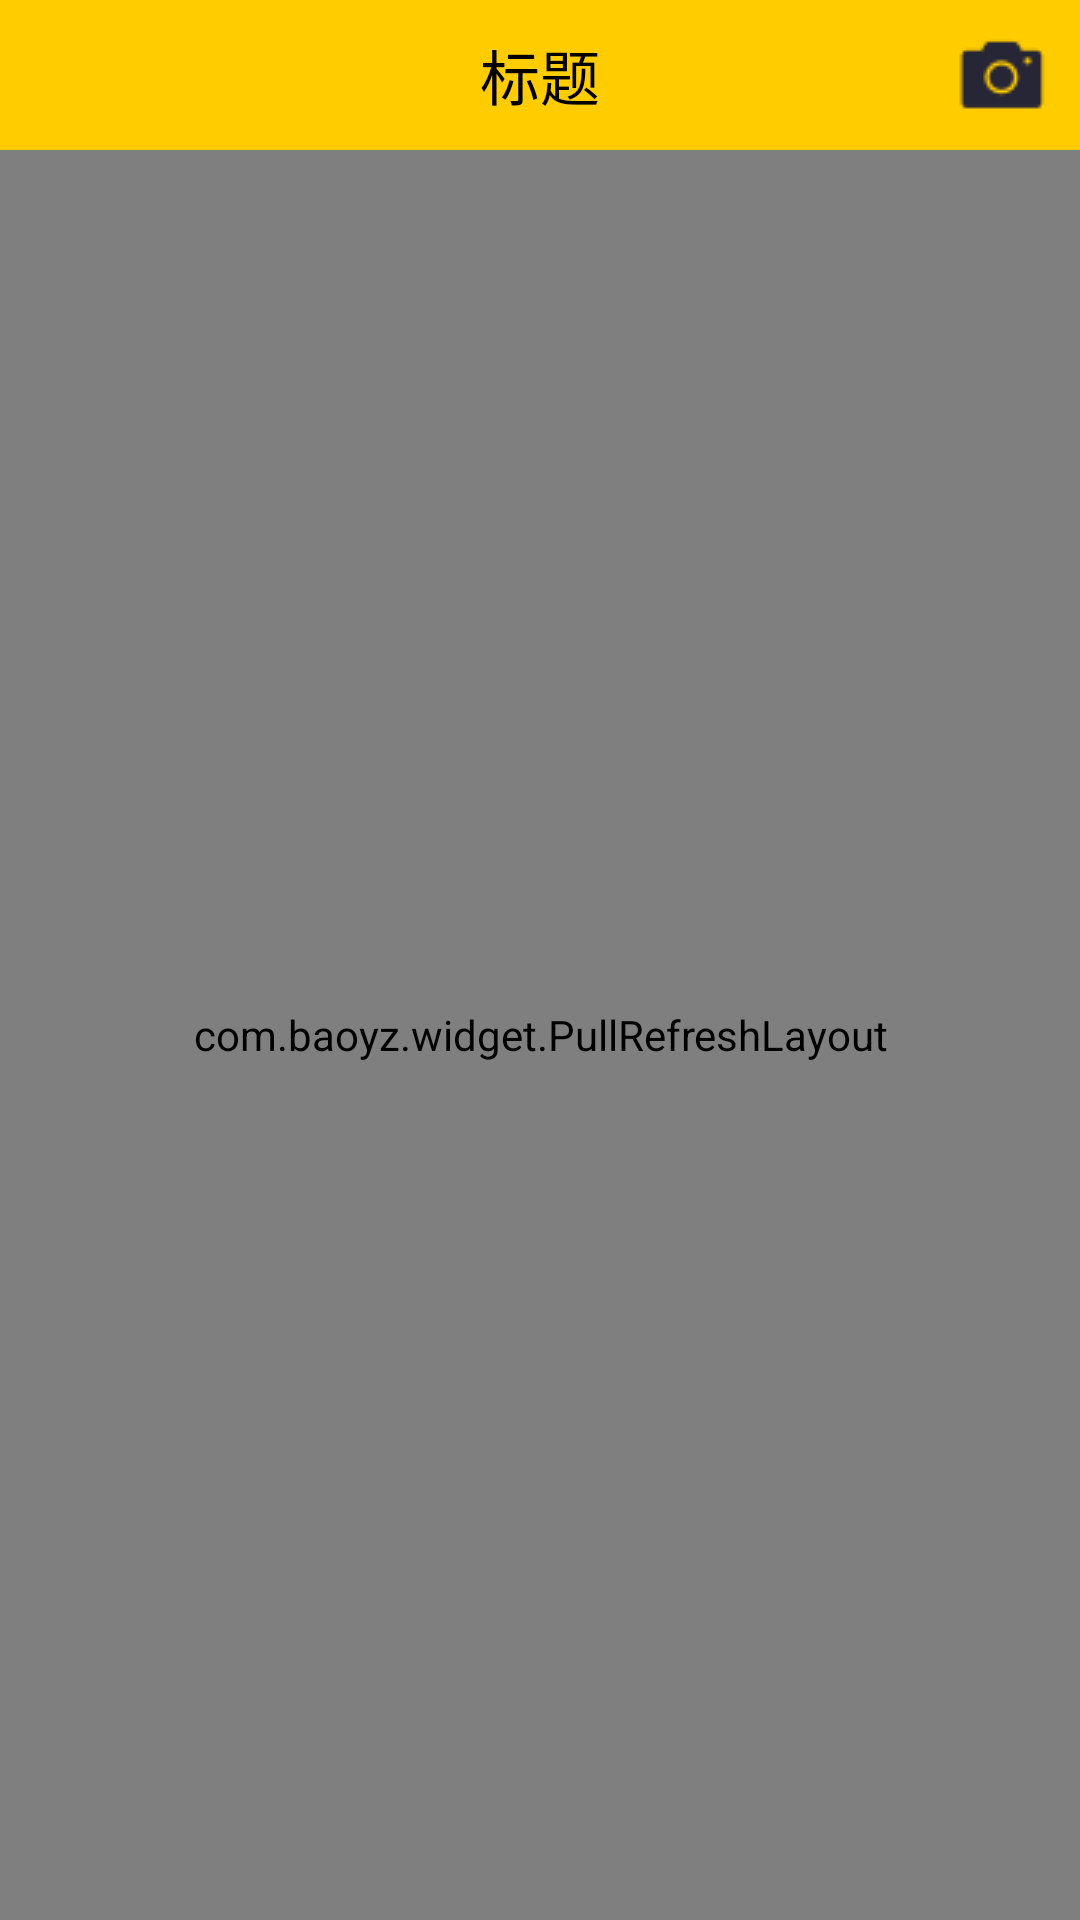

Icons on this 1080w x 1920h Android screen, each with the point to tap as point (x, y):
camera: point (1001, 75)
